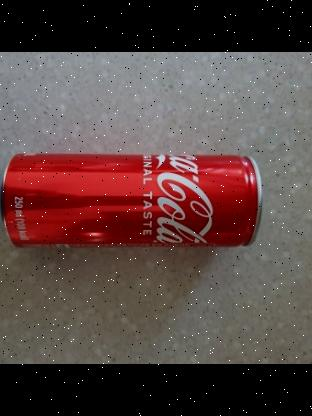Can: (0, 151, 261, 252)
